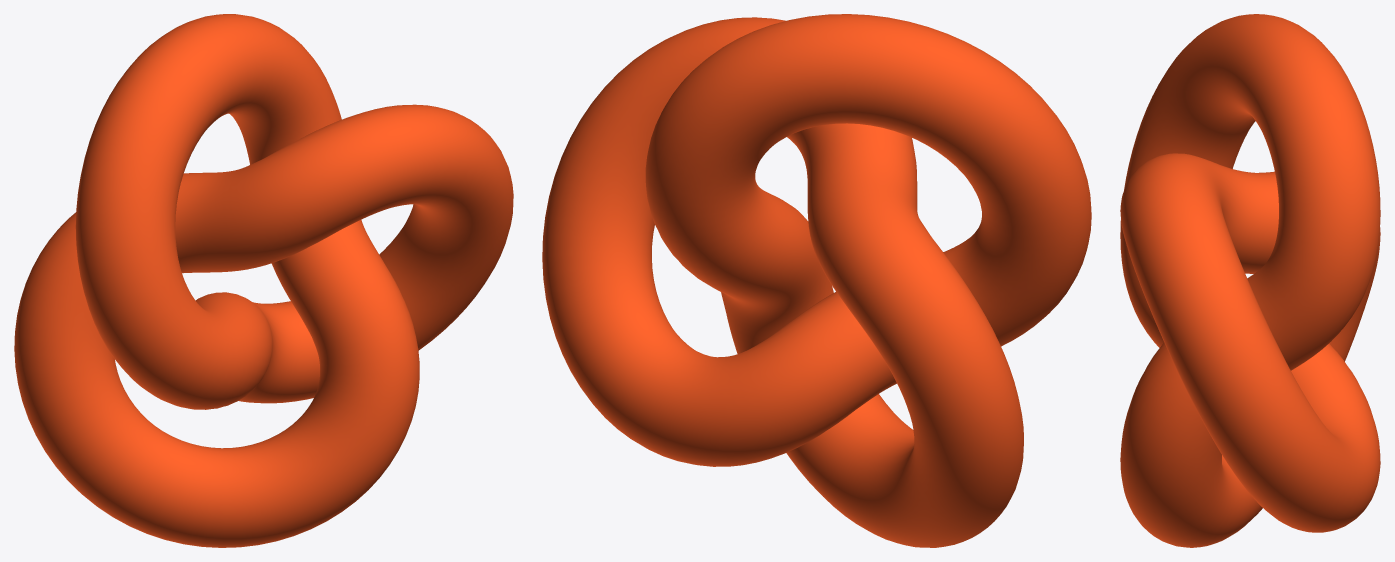
The model's file is demo-knot.glb.
3 views of the same model, side by side, from view 1: azimuth 30°, elevation 25°; view 2: azimuth 150°, elevation 25°; view 3: azimuth 270°, elevation 25° (orthographic). The views are drawn at different scales.
Bounding box in the file's own units: 3.32 × 3.47 × 1.64.
